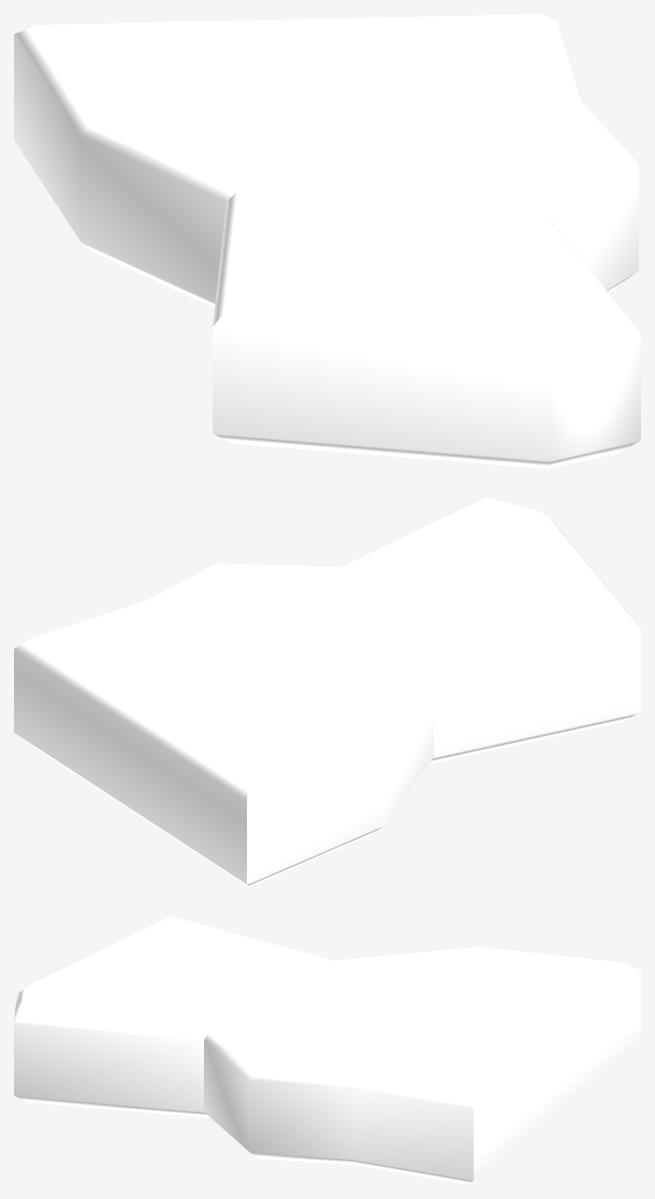
File: ice_floe_medium_010.glb
3 renders of one model, top to bottom at view 1: azimuth 30°, elevation 25°; view 2: azimuth 150°, elevation 25°; view 3: azimuth 270°, elevation 25°, orthographic. The views are drawn at different scales.
Visible parts, largest first — view 1: ice_floe_medium_010; view 2: ice_floe_medium_010; view 3: ice_floe_medium_010.
Part boxes in pixels (box(x1,y1,x2,y2)): ice_floe_medium_010: box(14, 14, 640, 468); ice_floe_medium_010: box(14, 497, 640, 887); ice_floe_medium_010: box(14, 916, 640, 1184).
Bounding box in the file's own units: 3.86 × 0.8944 × 5.43.
Materials: 1 (1 with a texture image).
